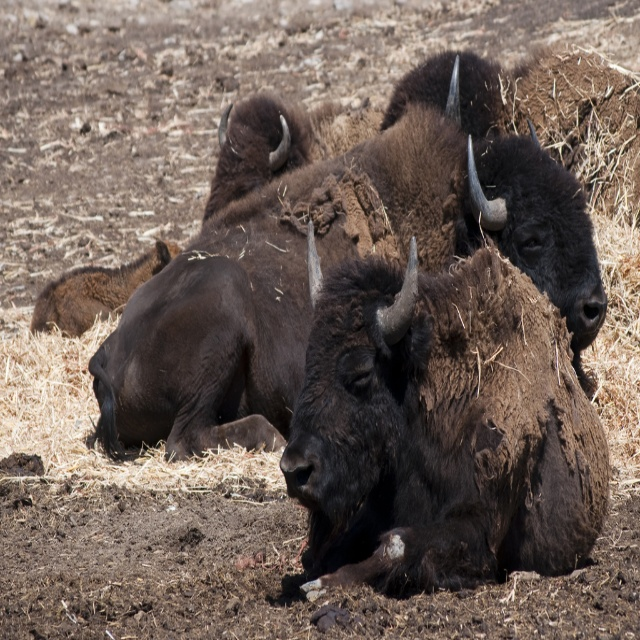Cattle: (29, 40, 640, 608)
